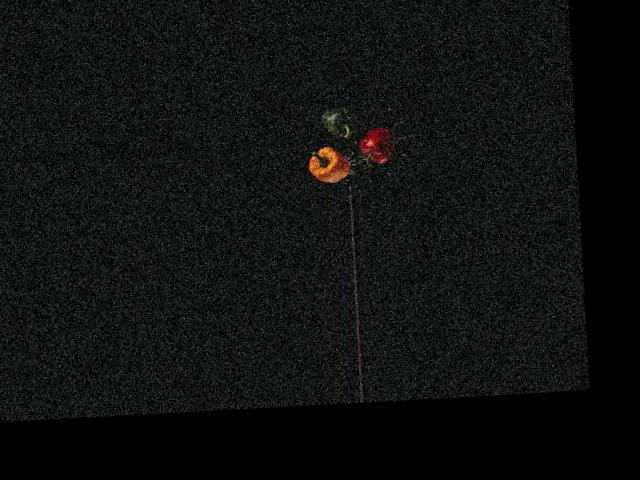bell_pepper: (351, 119, 396, 173)
